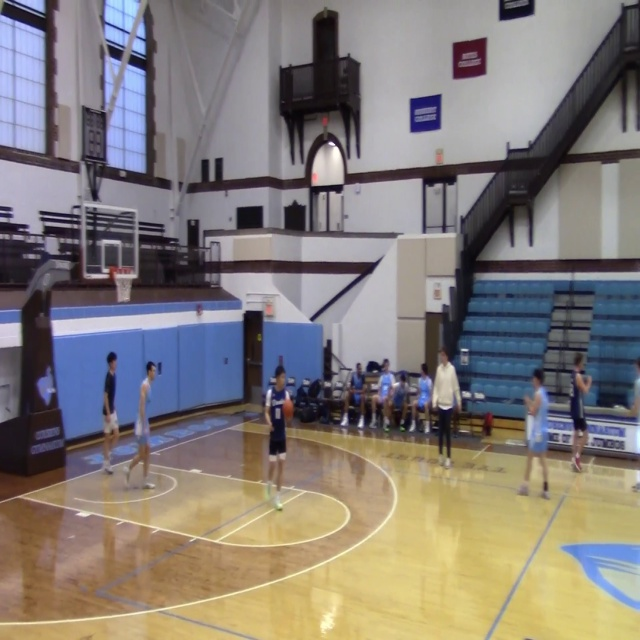Basketball: (282, 399, 293, 419)
